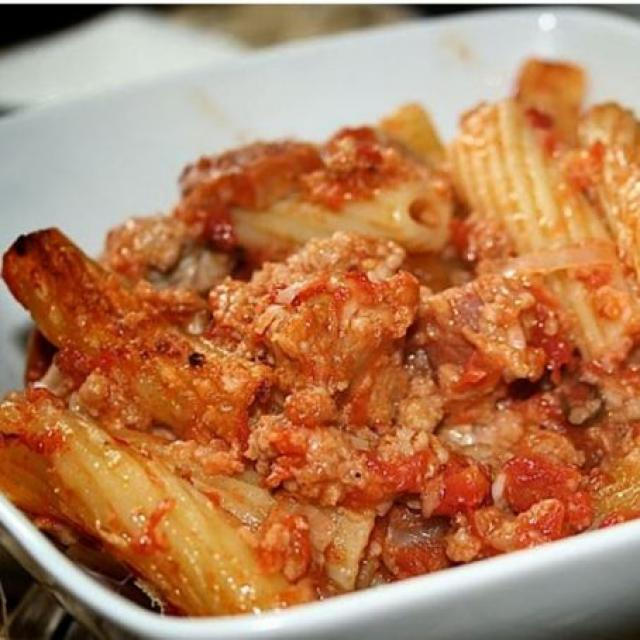Pasta al ragu: (8, 80, 628, 598)
